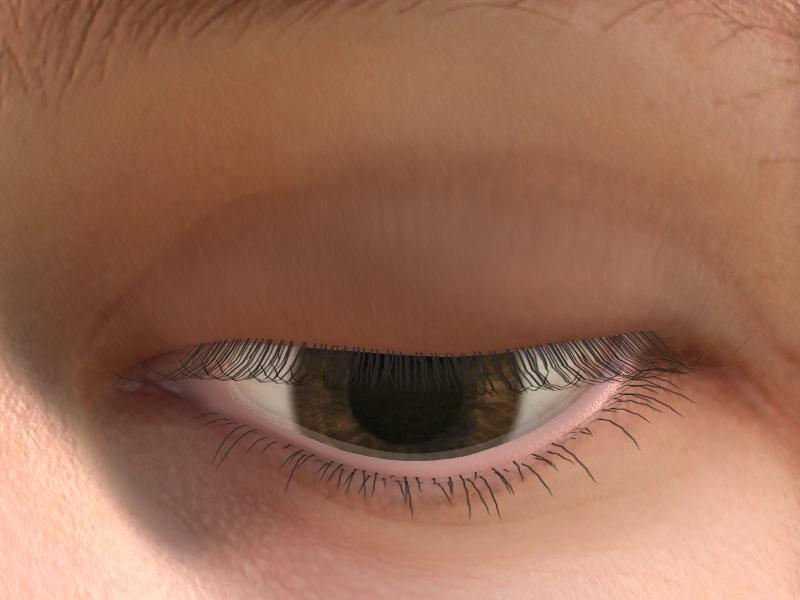eye: (292, 343, 516, 464)
